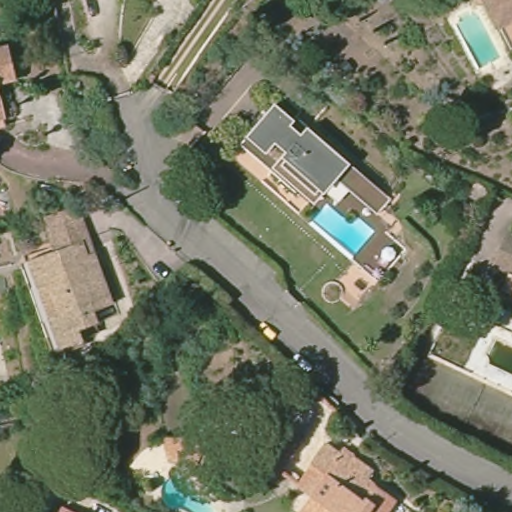pool: (312, 203, 375, 256), (455, 11, 501, 69), (157, 467, 211, 510)
